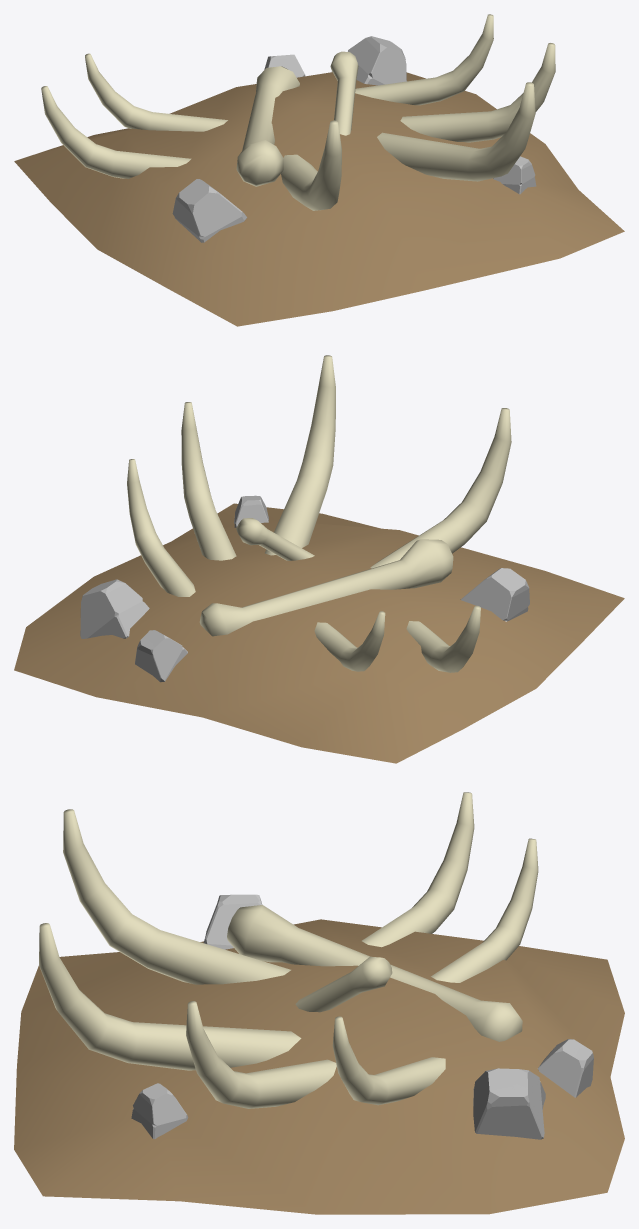
File: BonesBox_3.fbx
The picture shows the model from 3 angles, top to bottom: view 1: azimuth 30°, elevation 25°; view 2: azimuth 150°, elevation 25°; view 3: azimuth 270°, elevation 25°; orthographic projection. The views are drawn at different scales.
Parts seen in each view (by area): view 1: bones.002; view 2: bones.002; view 3: bones.002.
Boxes of the visible parts, x1=… form: bones.002: x1=14, y1=14, x2=624, y2=326; bones.002: x1=14, y1=355, x2=624, y2=763; bones.002: x1=14, y1=792, x2=624, y2=1214.
Bounding box in the file's own units: 428 × 157 × 406.
